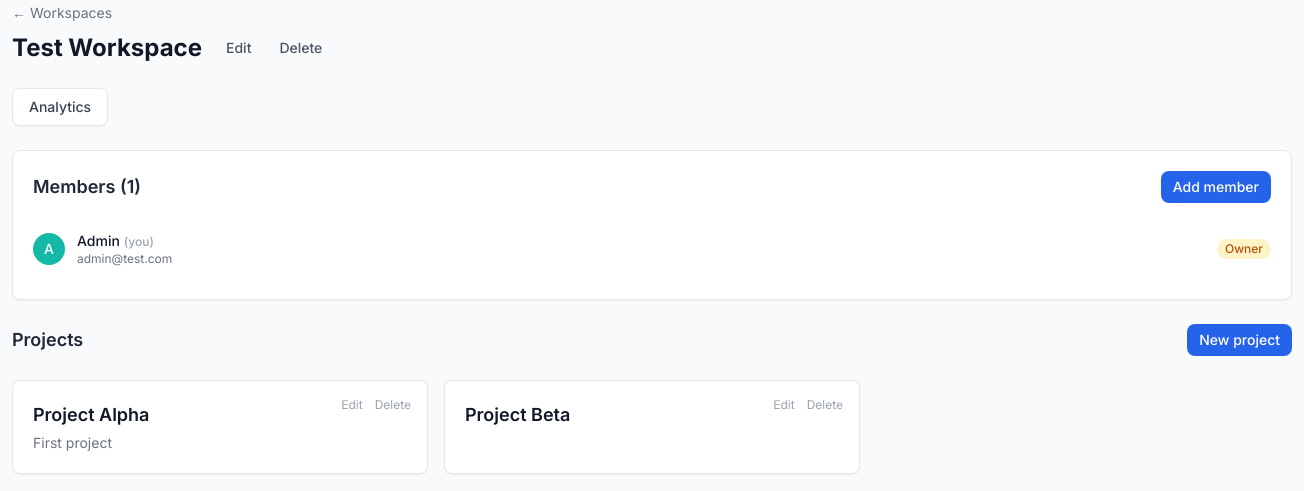
Test: WorkspaceDetailContent › ADMIN + owner user › should delete a project and remove it from list
Click the button "Delete" in the row of "Project Alpha" at (393, 405), box [371,393,415,417]
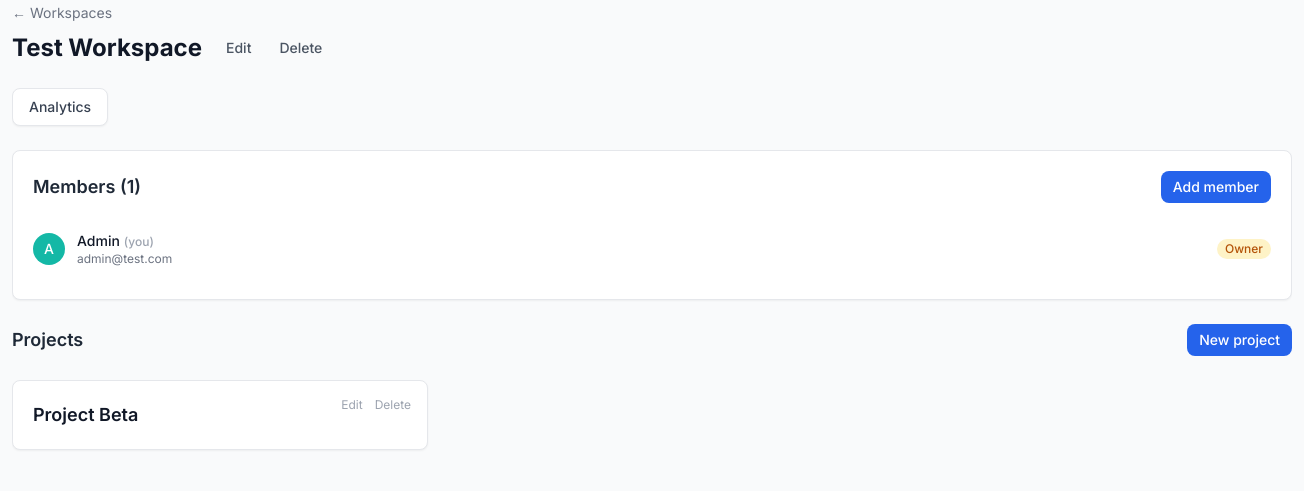
Expected: the heading "Project Beta" is shown, [33,404,138,425]
Result: the heading "Project Alpha" is gone
